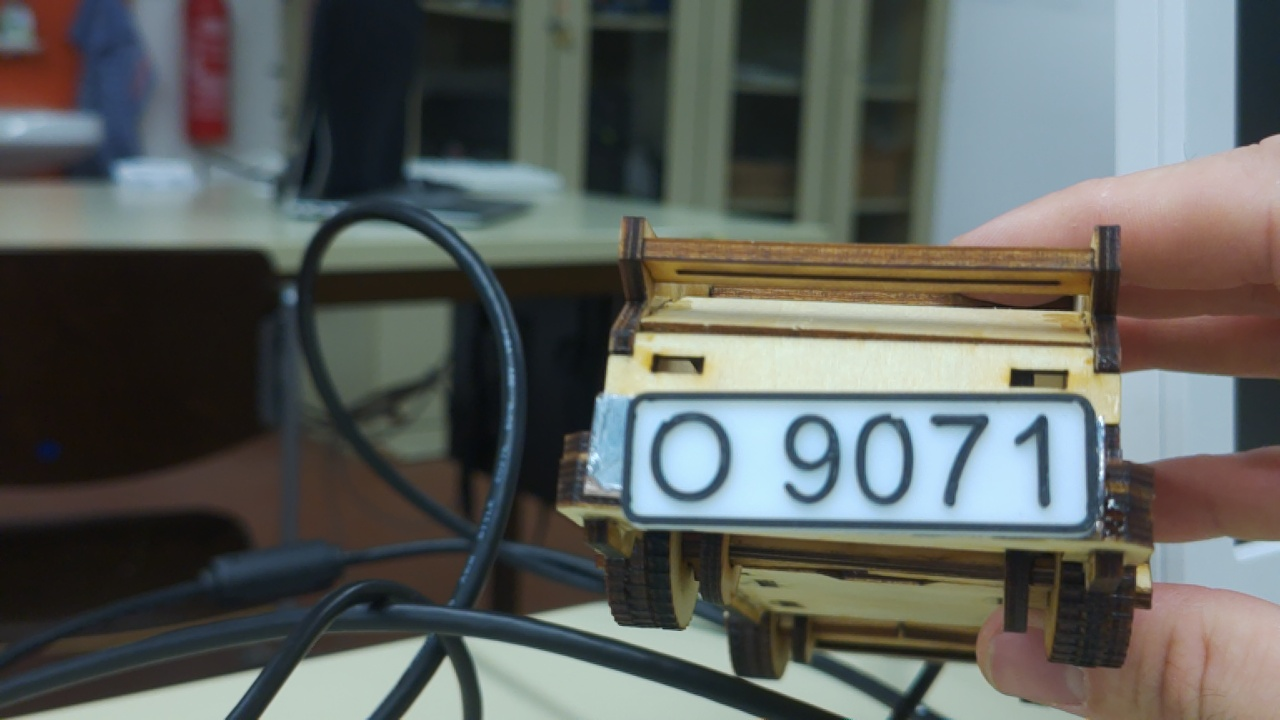license_plate: (607, 372, 1108, 549)
